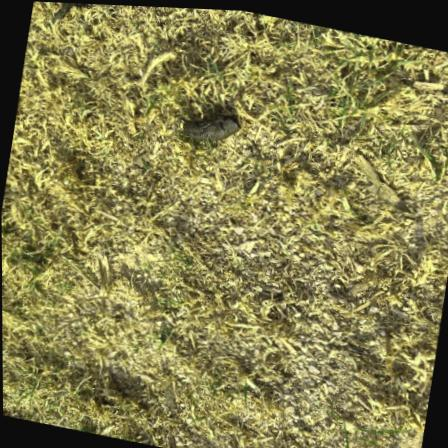dog-poop: (172, 84, 249, 152), (54, 2, 95, 29)
